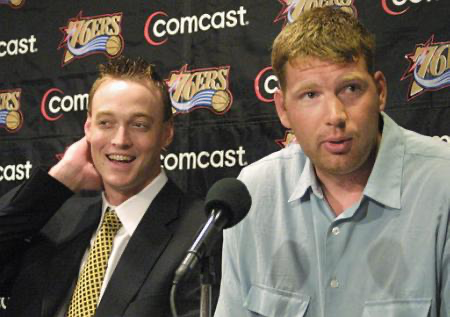Face: (275, 67, 386, 177), (80, 96, 166, 186)
